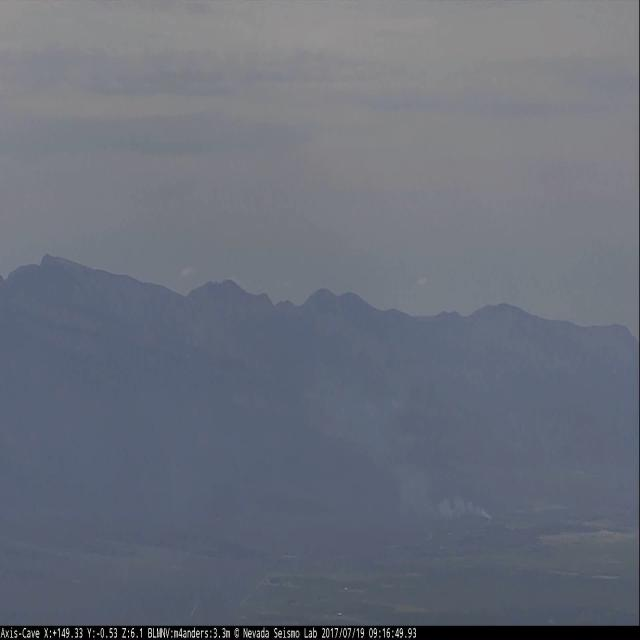smoke: (314, 374, 495, 515)
